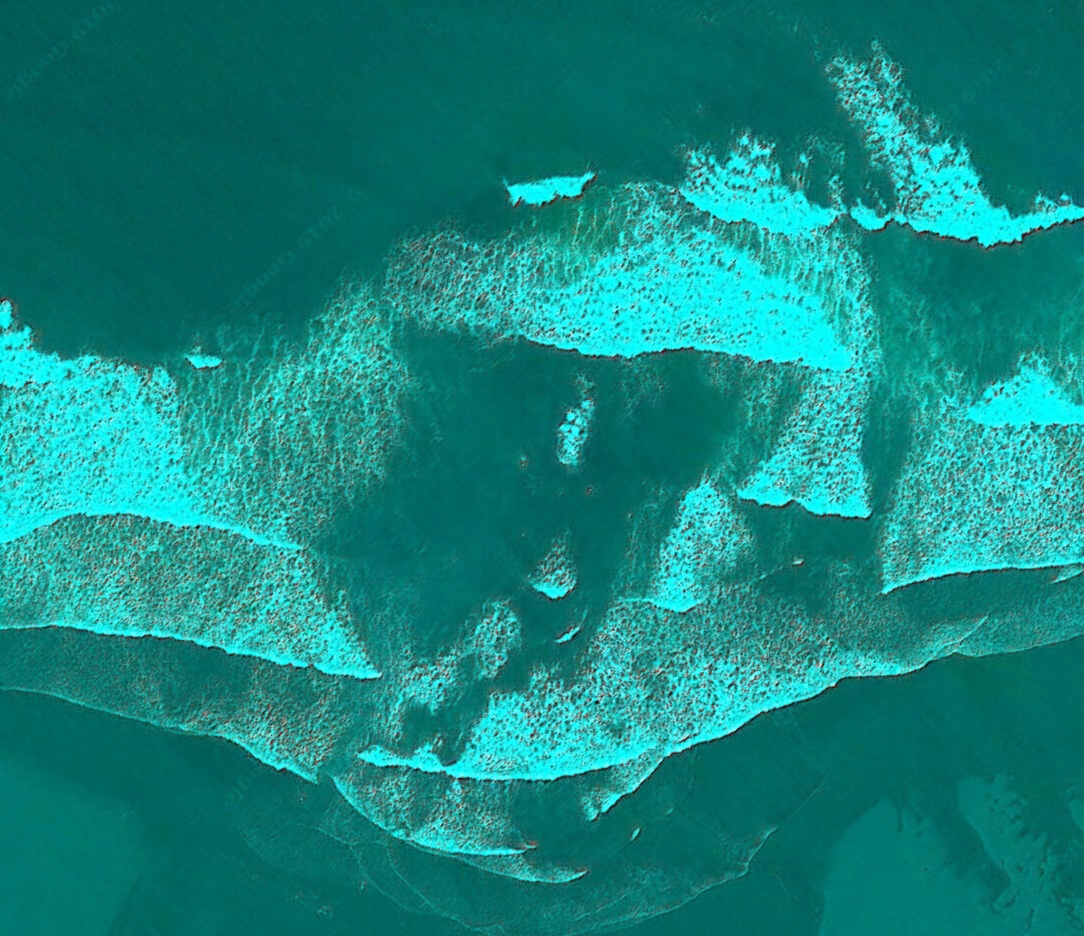rip_current: (269, 198, 752, 762)
